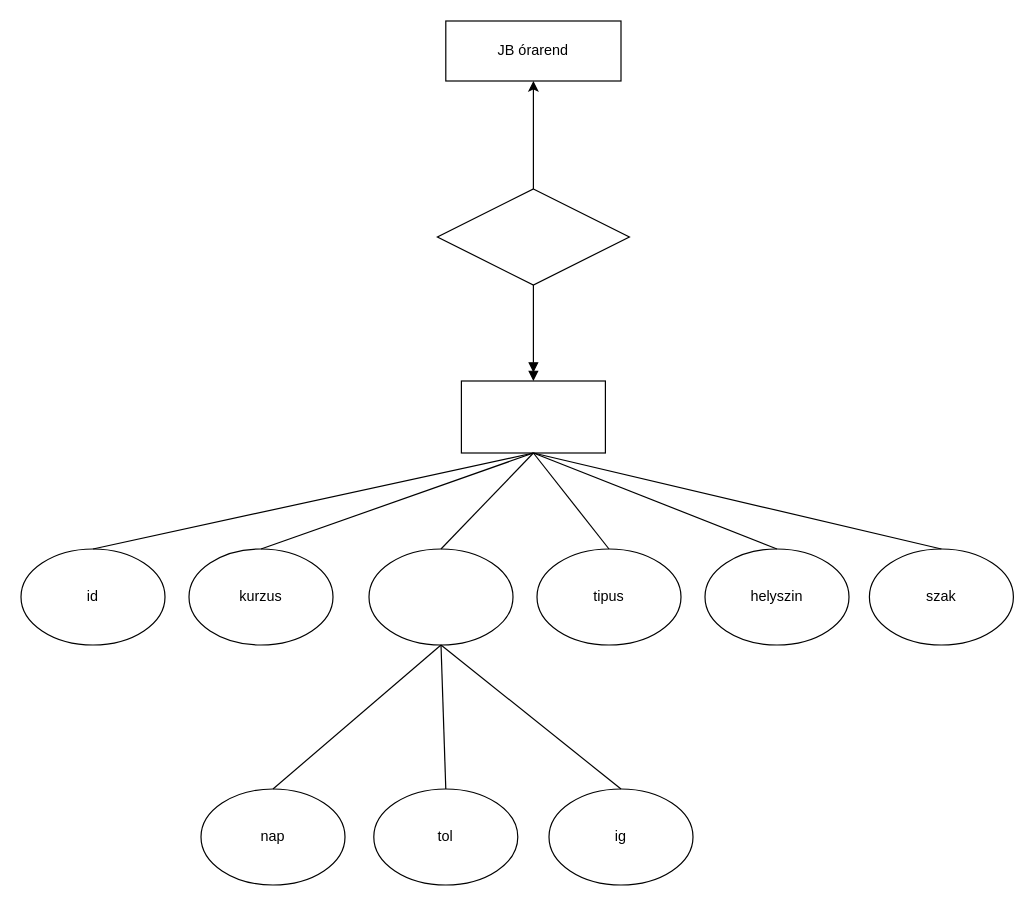
The diagram is 1034 pixels wide and 906 high, and some of its shapes have lost their labels. Here are the shapes that lost their labels. From the top down, the centre of each, then its label:
the point at 532,236: NK-O
the point at 532,416: ora
the point at 440,596: idopont
